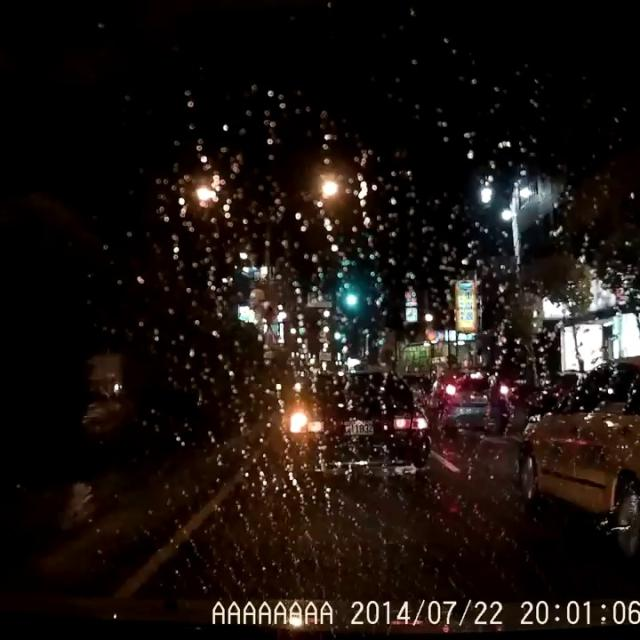Car: (515, 353, 639, 559), (278, 366, 431, 481), (431, 369, 513, 435)
